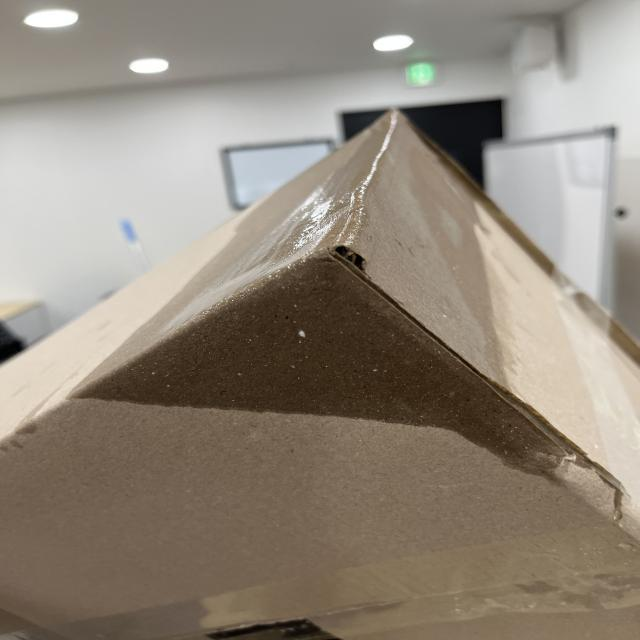hole: (192, 598, 396, 640)
wet: (68, 108, 554, 457)
